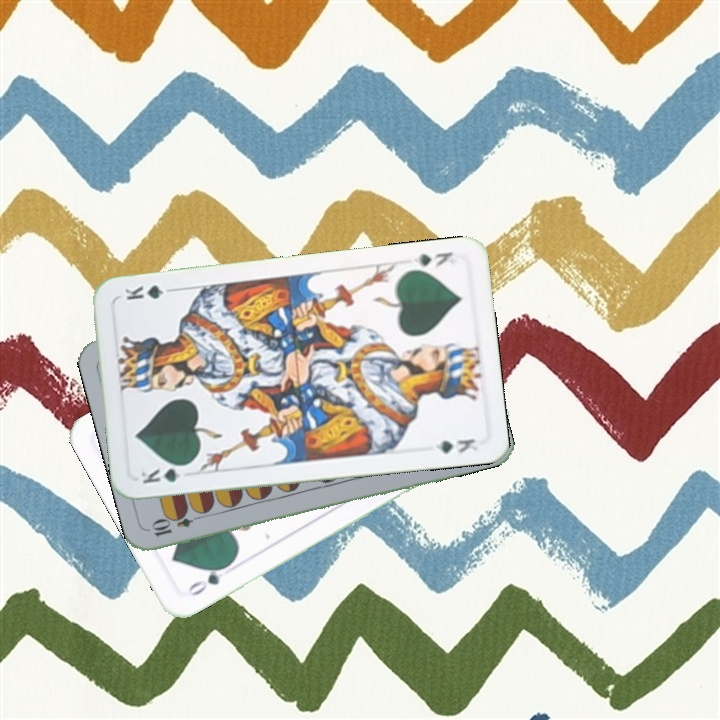E10: (148, 509, 206, 539)
GK: (137, 460, 193, 487), (409, 248, 456, 271)
GO: (182, 559, 234, 599)
